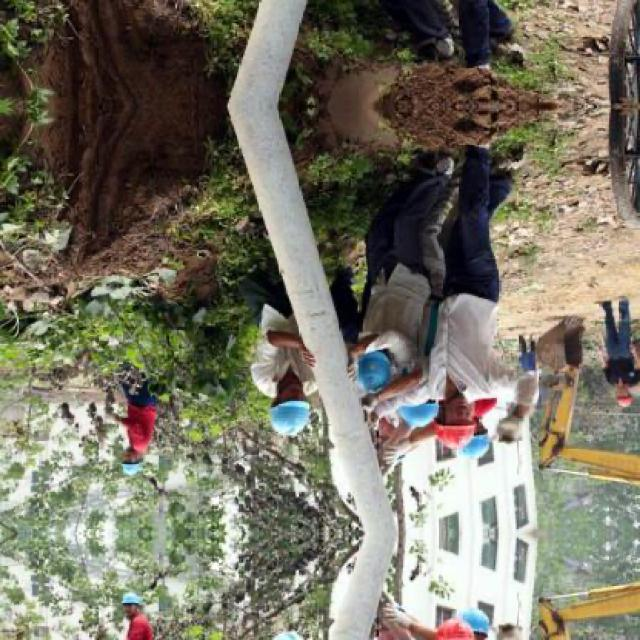con casco: (232, 354, 320, 441), (341, 315, 393, 404), (413, 386, 474, 446)
